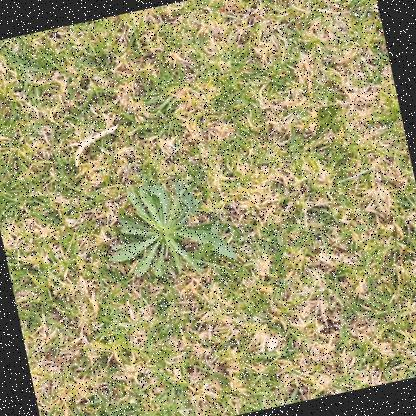Weeds: (94, 167, 238, 288)
